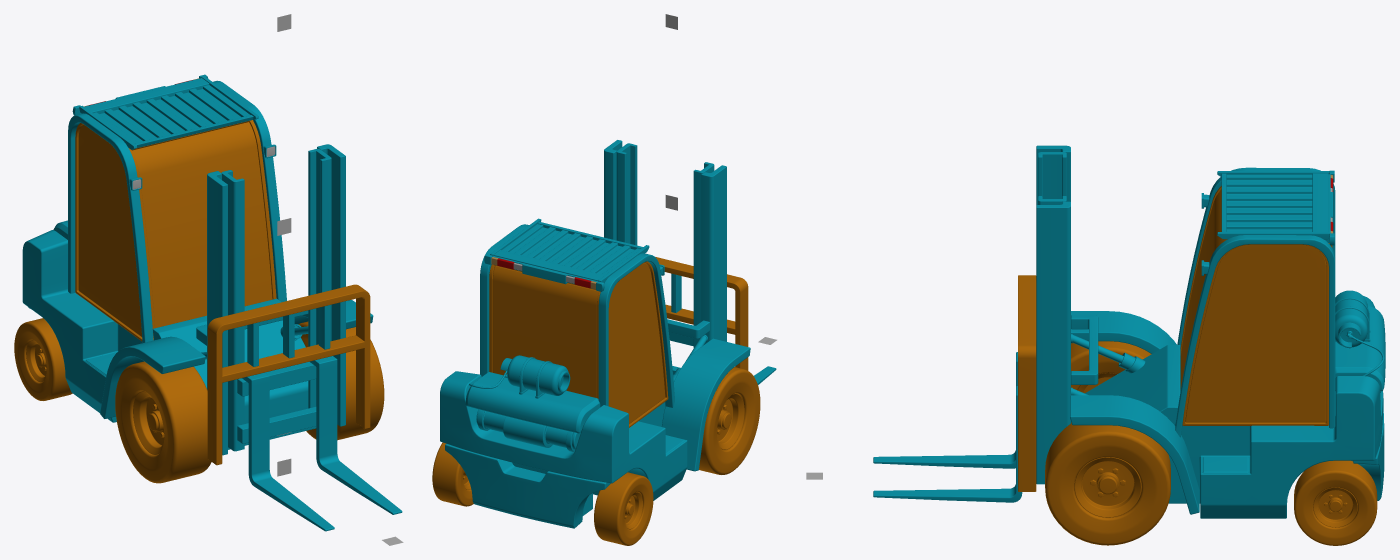
File: SM_Forklift_Player3.fbx
The picture shows the model from 3 angles, left to right: view 1: azimuth 30°, elevation 25°; view 2: azimuth 150°, elevation 25°; view 3: azimuth 270°, elevation 25°; orthographic projection. The views are drawn at different scales.
Visible parts, largest first — view 1: FL_Base, FL_Forks, FL_FW_R, FL_Telescopic, FL_BW_R, FL_FW_L; view 2: FL_Base, FL_FW_R, FL_Telescopic, FL_BW_R, FL_Forks, FL_BW_L; view 3: FL_Base, FL_FW_L, FL_Forks, FL_BW_L, FL_FW_R, FL_Telescopic.
Part boxes in pixels (x1,y1,x2,y2): FL_Base: [22, 74, 373, 455]; FL_Forks: [207, 284, 402, 531]; FL_FW_R: [115, 361, 211, 483]; FL_Telescopic: [221, 148, 331, 451]; FL_BW_R: [14, 318, 72, 400]; FL_FW_L: [298, 321, 384, 440]; FL_Base: [440, 140, 750, 528]; FL_FW_R: [699, 367, 760, 474]; FL_Telescopic: [616, 143, 714, 347]; FL_BW_R: [594, 472, 653, 545]; FL_Forks: [655, 257, 776, 384]; FL_BW_L: [432, 442, 473, 506]; FL_Base: [1036, 145, 1385, 518]; FL_FW_L: [1045, 423, 1170, 545]; FL_Forks: [873, 275, 1036, 502]; FL_BW_L: [1294, 460, 1377, 545]; FL_FW_R: [1071, 341, 1151, 423]; FL_Telescopic: [1038, 152, 1066, 204].
Bounding box in the file's own units: 150 × 315 × 348.
